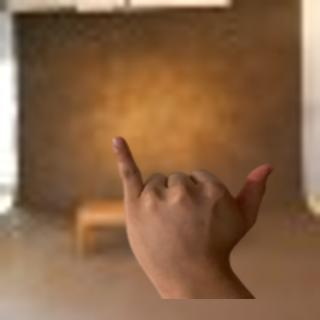HAVE: (99, 126, 278, 287)
